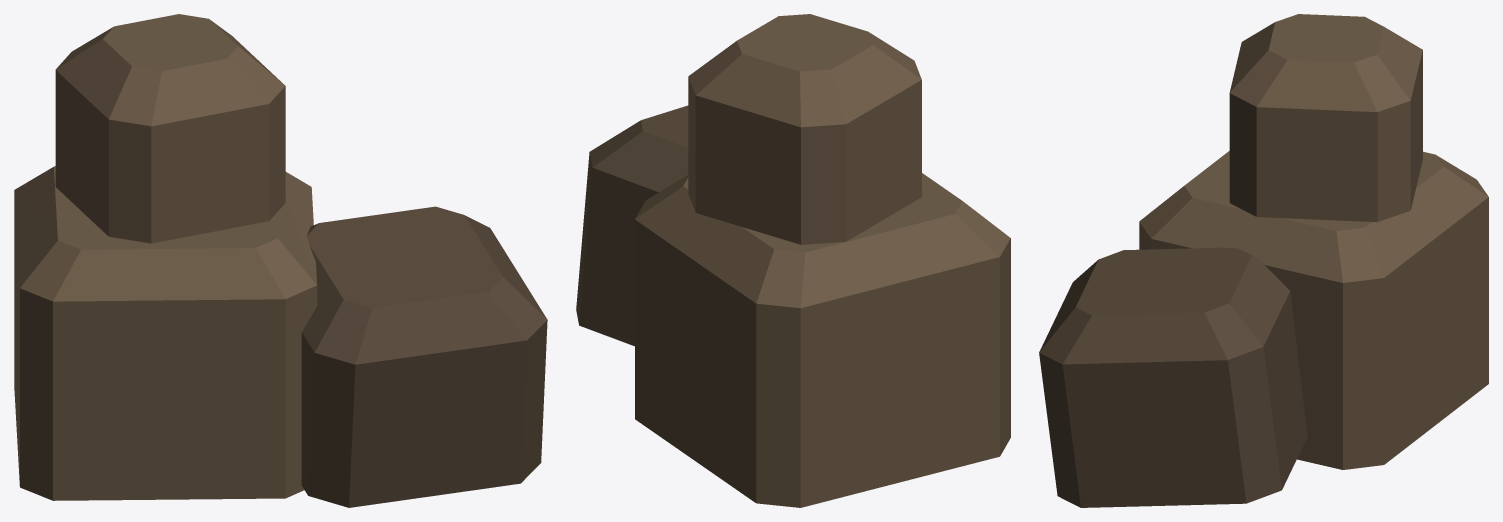
The model's file is cube_sculpture_dirt_c.obj.
3 views of the same model, side by side, from view 1: azimuth 30°, elevation 25°; view 2: azimuth 150°, elevation 25°; view 3: azimuth 270°, elevation 25° (orthographic). The views are drawn at different scales.
Visible parts, largest first — view 1: cube_sculpture_dirt_c_0, cube_sculpture_dirt_c_2, cube_sculpture_dirt_c_3, cube_sculpture_dirt_c_4, cube_sculpture_dirt_c_1, cube_sculpture_dirt_c_5; view 2: cube_sculpture_dirt_c_0, cube_sculpture_dirt_c_4, cube_sculpture_dirt_c_1, cube_sculpture_dirt_c_5, cube_sculpture_dirt_c_2, cube_sculpture_dirt_c_3; view 3: cube_sculpture_dirt_c_2, cube_sculpture_dirt_c_0, cube_sculpture_dirt_c_3, cube_sculpture_dirt_c_4, cube_sculpture_dirt_c_1, cube_sculpture_dirt_c_5.
Boxes of the visible parts, <box> form: cube_sculpture_dirt_c_0: <box>14,191,317,500</box>; cube_sculpture_dirt_c_2: <box>301,320,547,507</box>; cube_sculpture_dirt_c_3: <box>302,206,547,364</box>; cube_sculpture_dirt_c_4: <box>55,70,285,243</box>; cube_sculpture_dirt_c_1: <box>14,166,316,301</box>; cube_sculpture_dirt_c_5: <box>55,14,285,126</box>; cube_sculpture_dirt_c_0: <box>635,220,1010,507</box>; cube_sculpture_dirt_c_4: <box>688,77,921,244</box>; cube_sculpture_dirt_c_1: <box>635,173,1010,308</box>; cube_sculpture_dirt_c_5: <box>688,14,921,127</box>; cube_sculpture_dirt_c_2: <box>576,152,658,346</box>; cube_sculpture_dirt_c_3: <box>589,105,688,192</box>; cube_sculpture_dirt_c_2: <box>1039,291,1307,507</box>; cube_sculpture_dirt_c_0: <box>1139,197,1488,469</box>; cube_sculpture_dirt_c_3: <box>1039,247,1289,364</box>; cube_sculpture_dirt_c_4: <box>1229,50,1422,222</box>; cube_sculpture_dirt_c_1: <box>1139,151,1488,282</box>; cube_sculpture_dirt_c_5: <box>1229,14,1422,112</box>.
Bounding box in the file's own units: 0.7919 × 0.66 × 0.7413.
